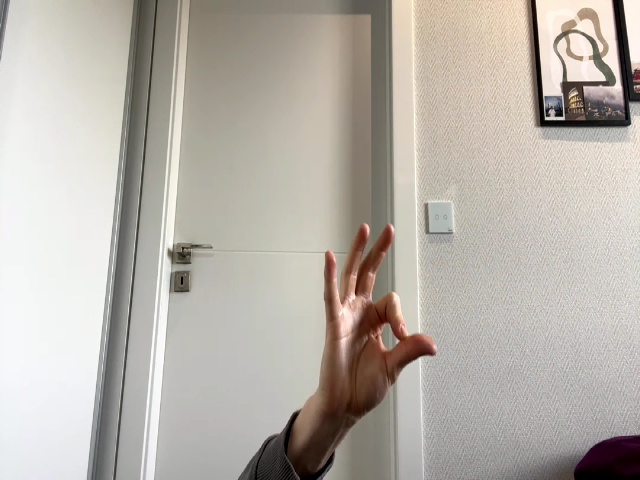S: (323, 222, 437, 414)
